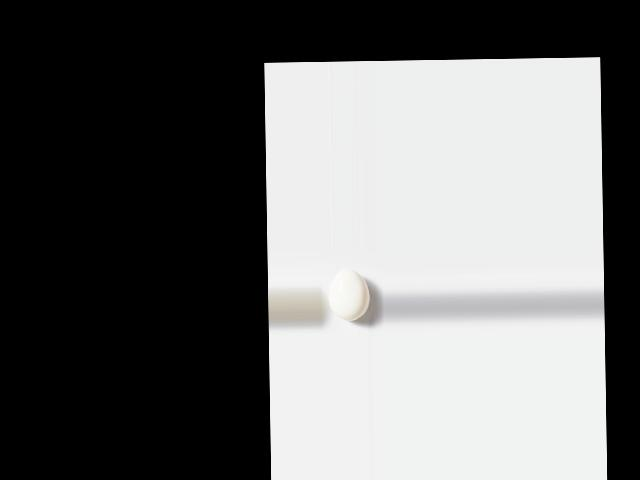egg: (328, 269, 370, 321)
